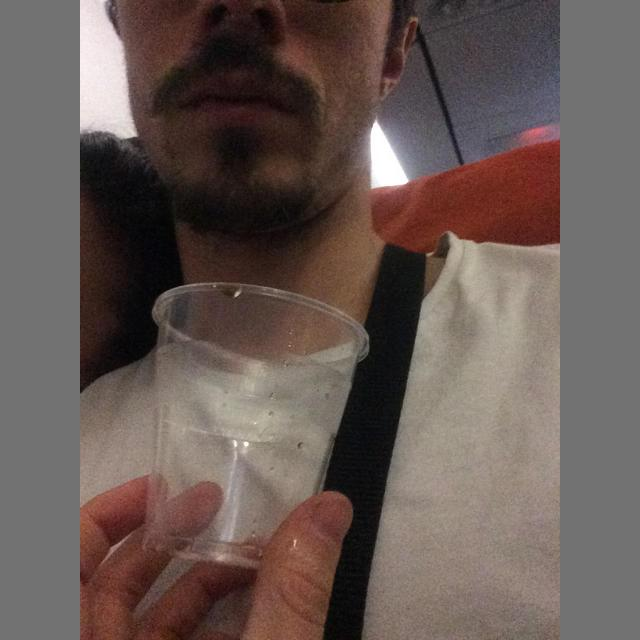litter: (143, 283, 370, 570)
